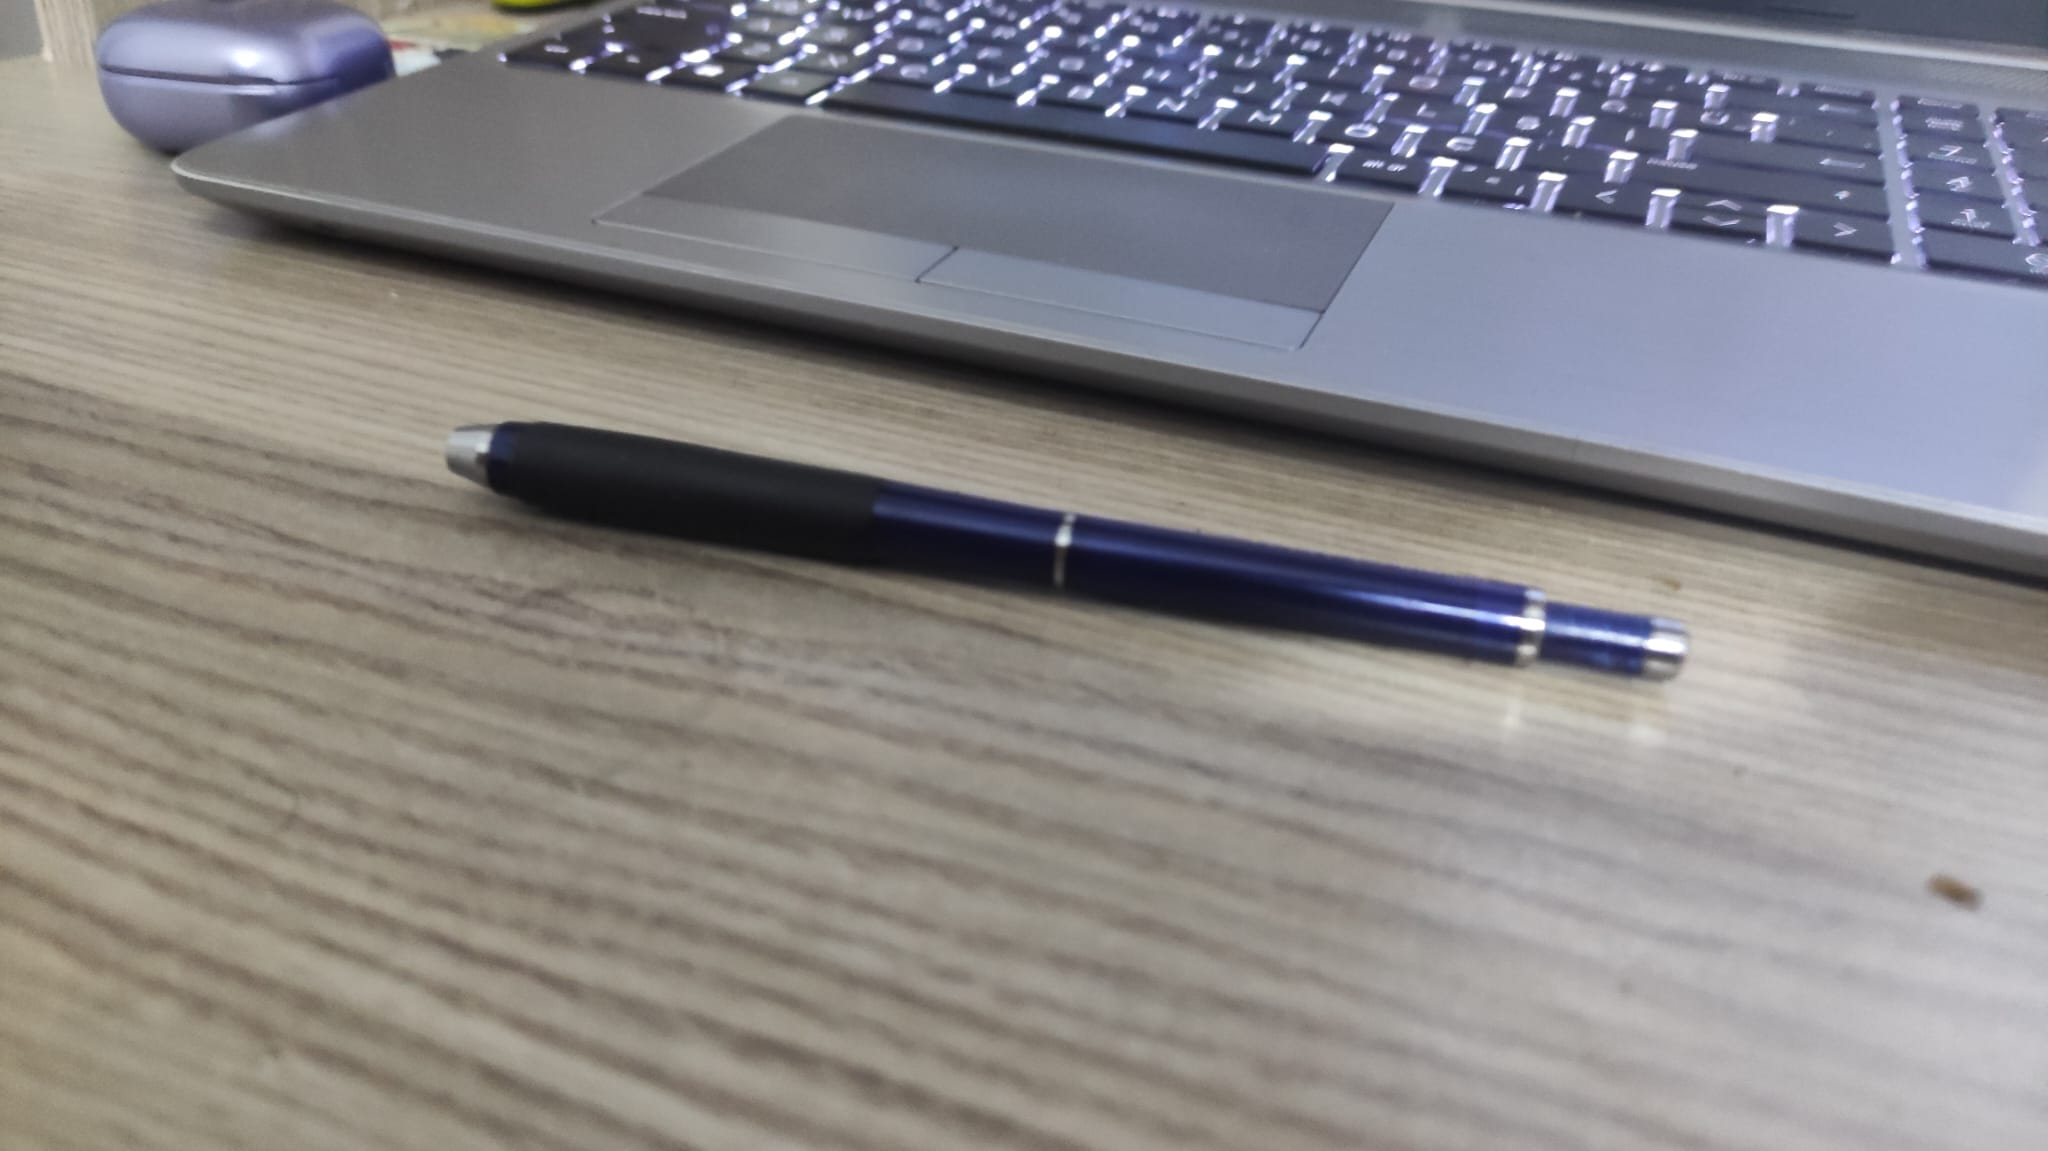kalem: (446, 416, 1696, 684)
